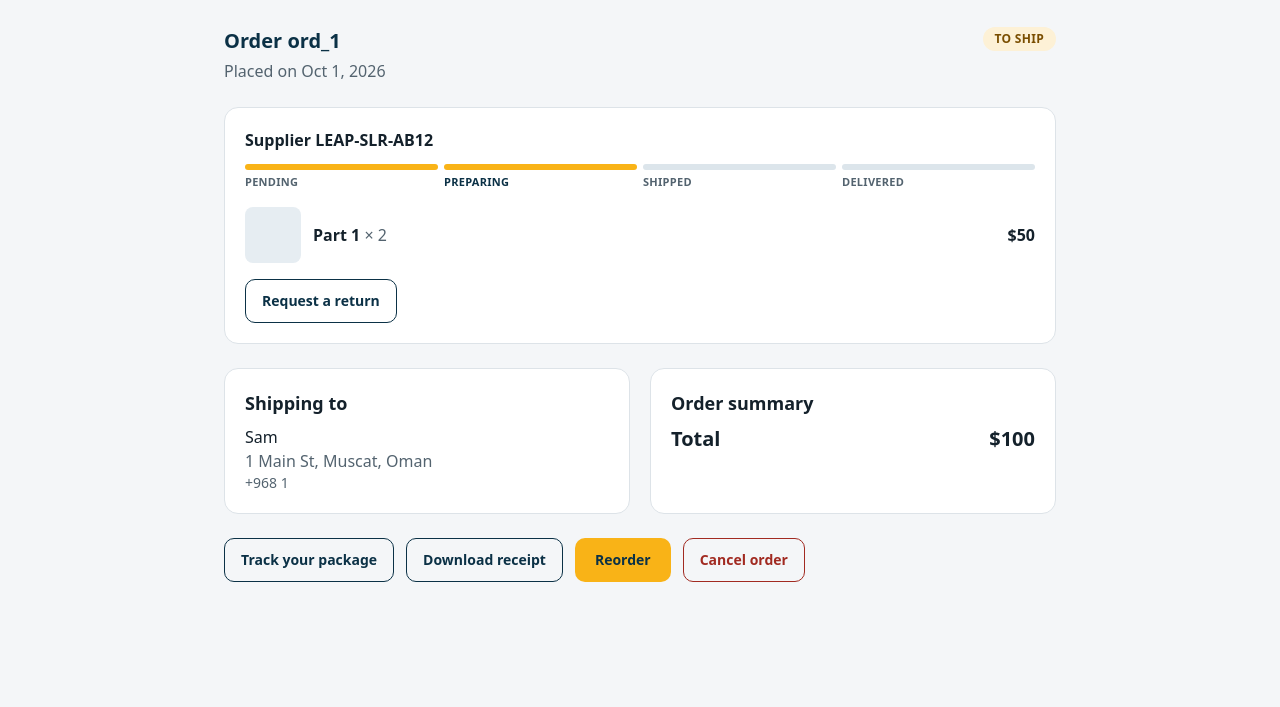
Test: order detail: cancelling › CRITICAL: the whole order can be cancelled while every part can: it asks first, 'Back' changes nothing, confirming cancels and reloads
Expected: the heading "Order ord_1" is shown, [224,27,341,54]
Click the button "Cancel order": (744, 560) [683,538,805,582]
(page scrolled)
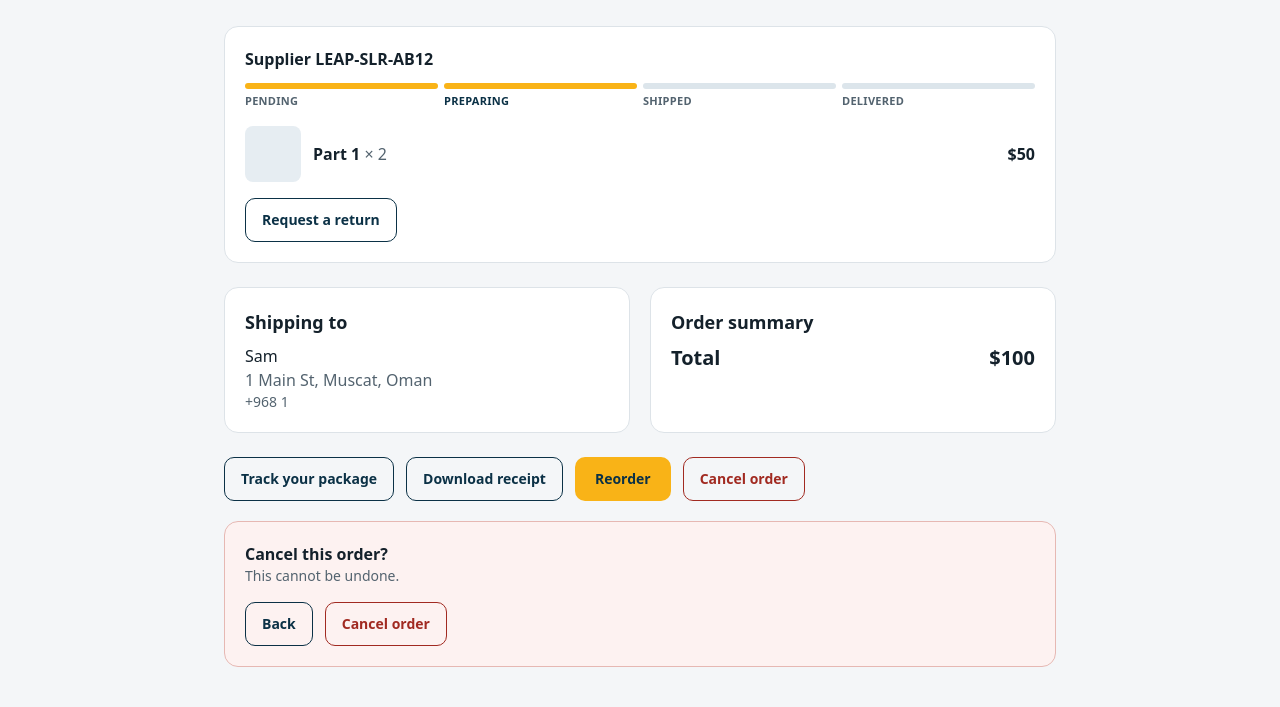
Now the dialog "Cancel this order?" is shown, box [224,520,1056,666]
Click the button "Back": (279, 624) [245,602,313,646]
(page scrolled)
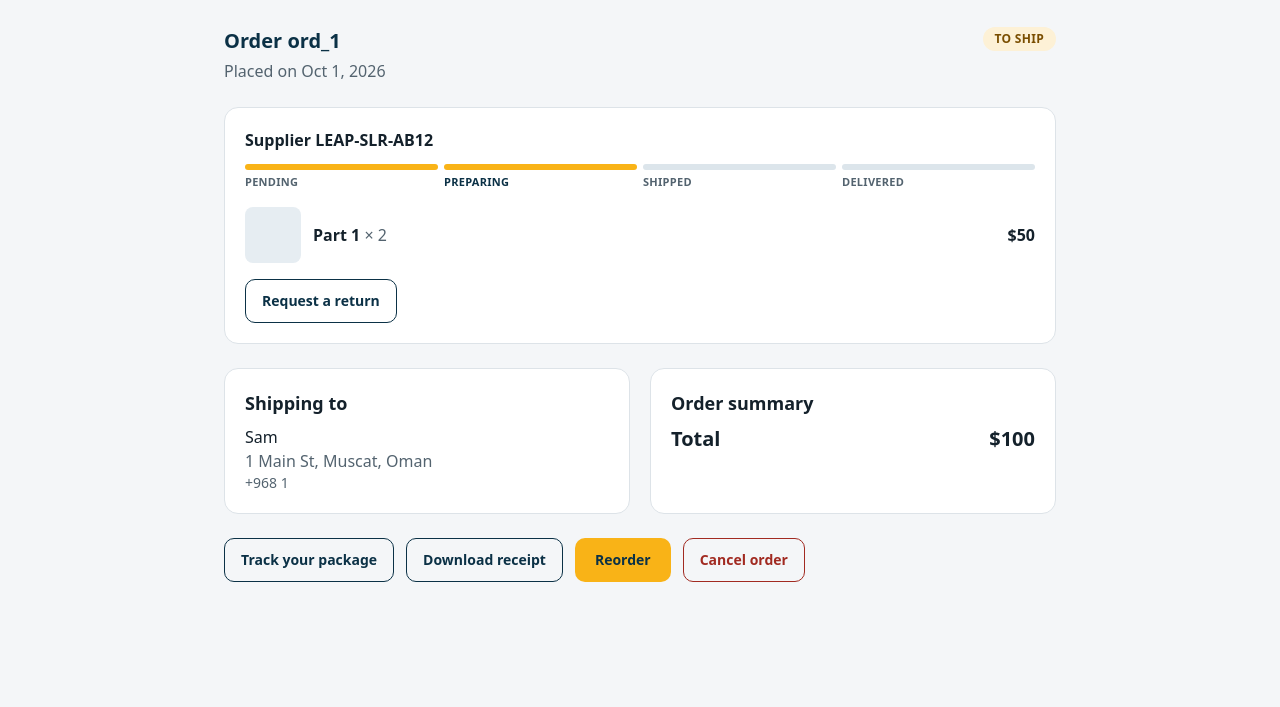
Click the button "Cancel order": (744, 560) [683,538,805,582]
(page scrolled)
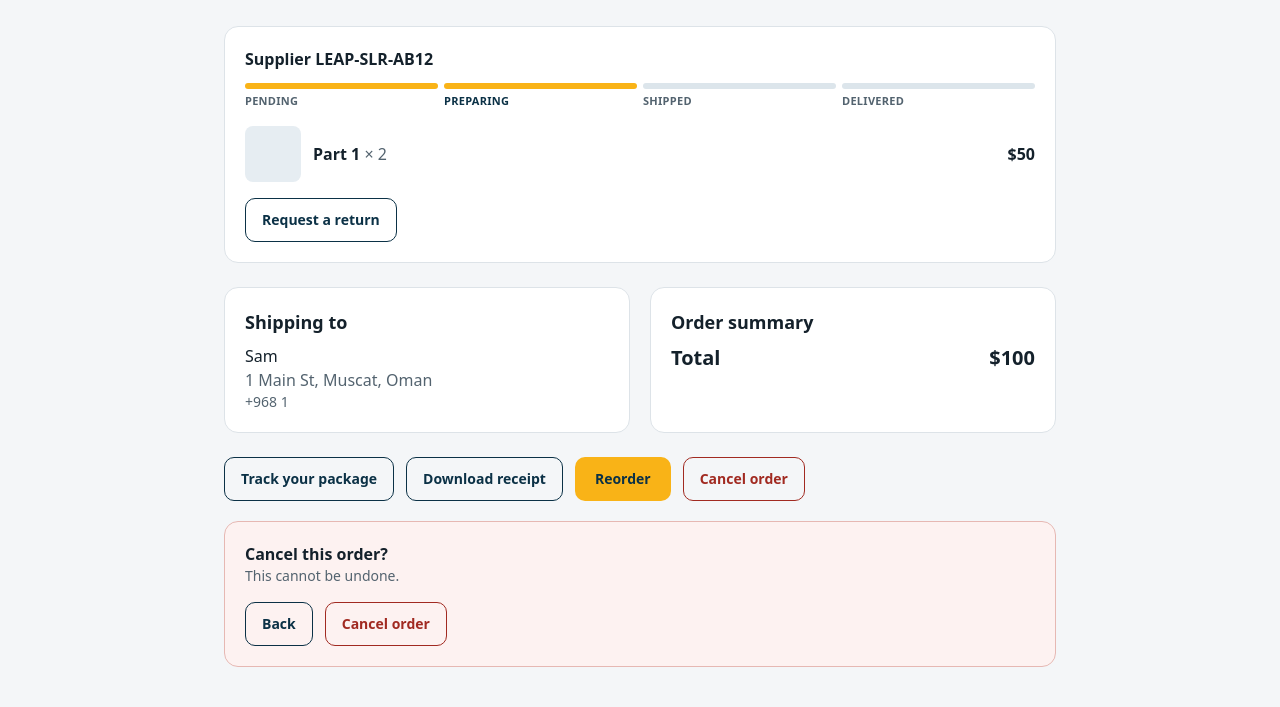
Click the button "Cancel order" below "This cannot be undone.": (386, 624) [325,602,447,646]
(page scrolled)
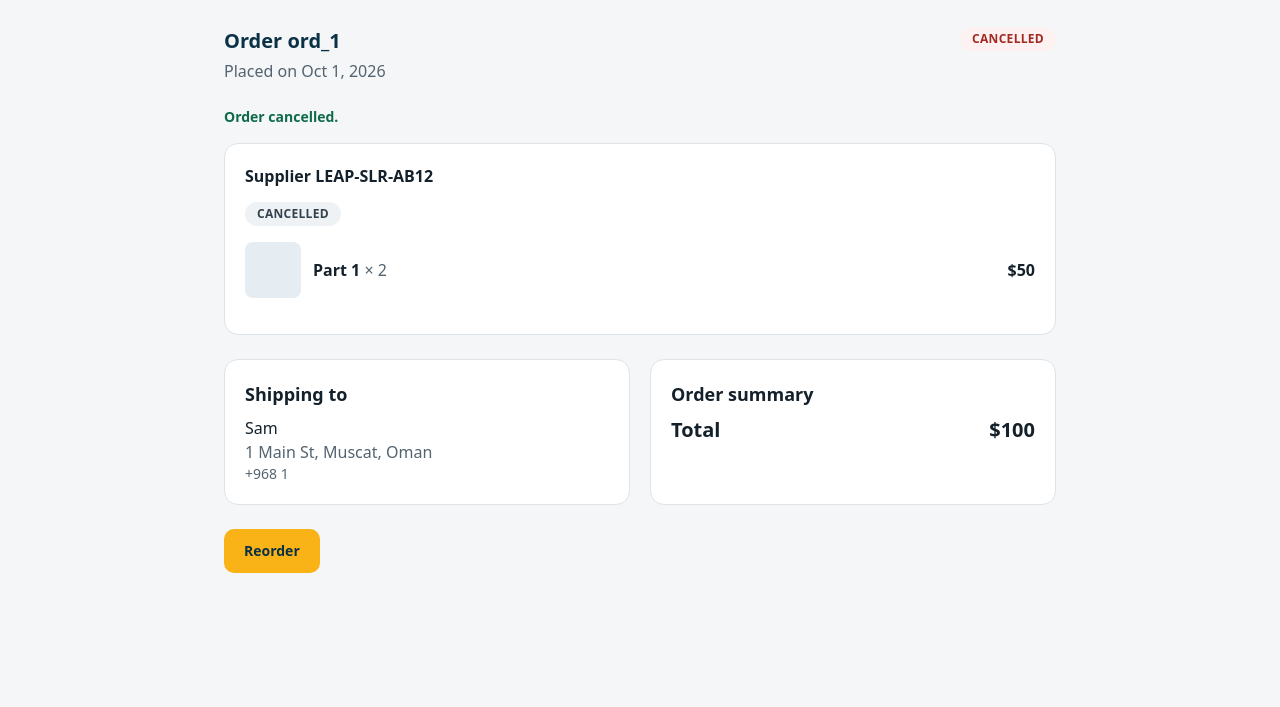
Now the text "Order cancelled." is shown, box [224,107,338,126]
Now the button "Cancel order" is gone
